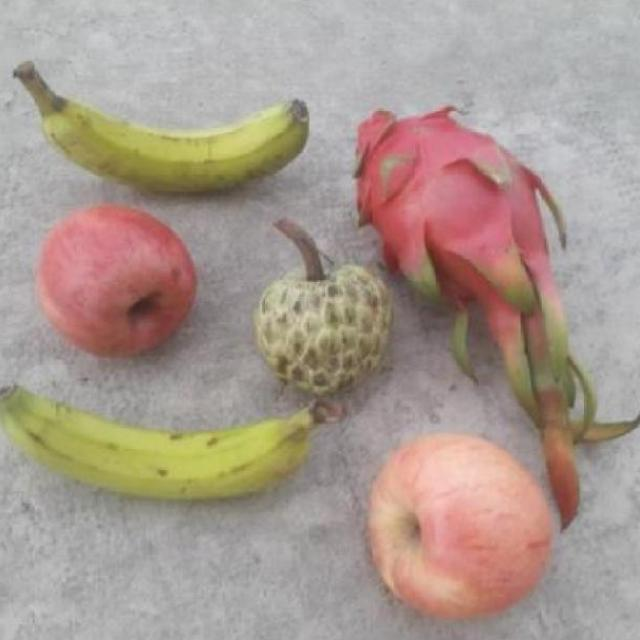apple: (364, 433, 556, 623), (34, 202, 196, 364)
banana: (0, 382, 339, 508), (17, 58, 313, 194)
dragon fruit: (348, 102, 566, 324)
sugar apple: (257, 253, 393, 395)
